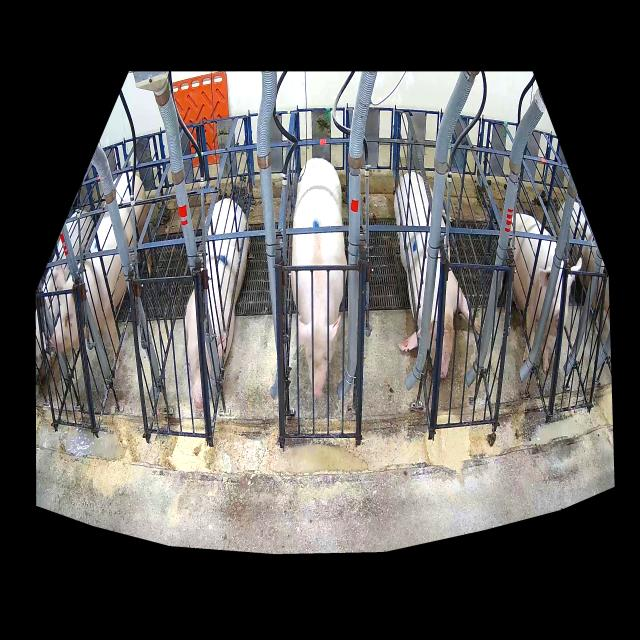pig: (49, 172, 152, 370), (394, 172, 469, 379), (291, 158, 348, 399), (185, 198, 249, 409), (514, 214, 582, 374)
